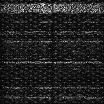lte: (1, 2, 104, 13), (1, 60, 104, 64), (1, 85, 104, 89), (1, 95, 104, 99), (1, 39, 104, 43)
